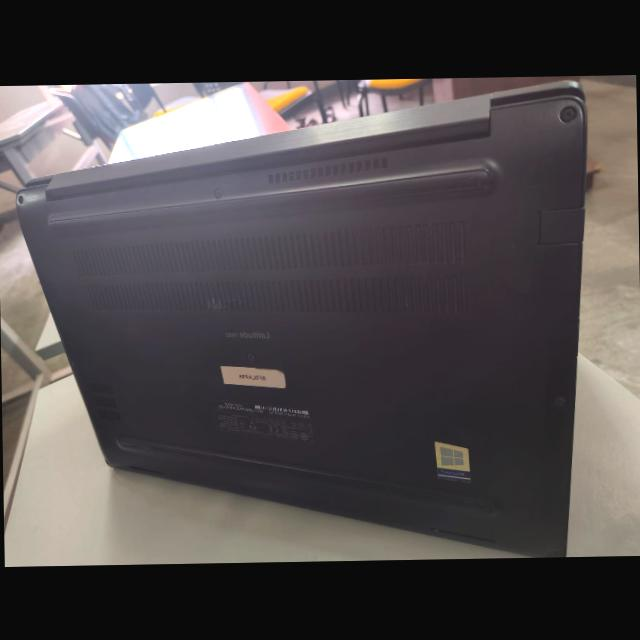laptop: (20, 91, 616, 551)
